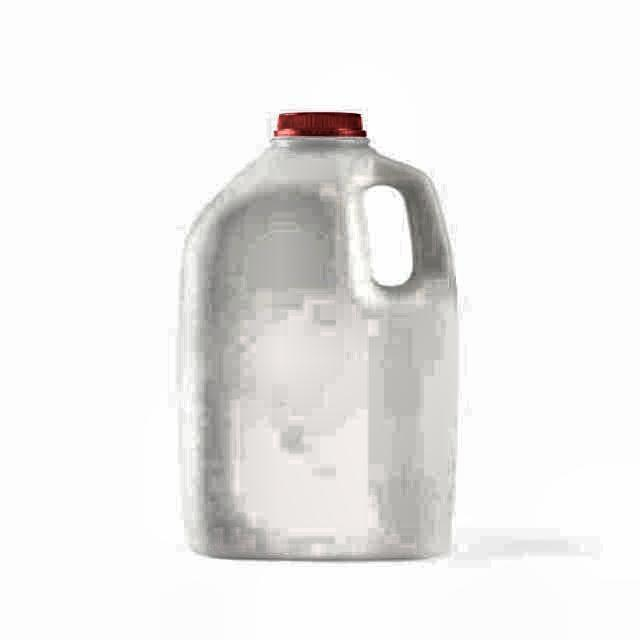plastic: (169, 108, 465, 565)
